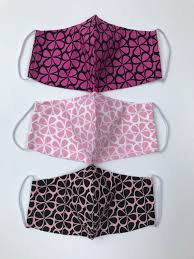cloth_mask: (14, 163, 172, 240)
